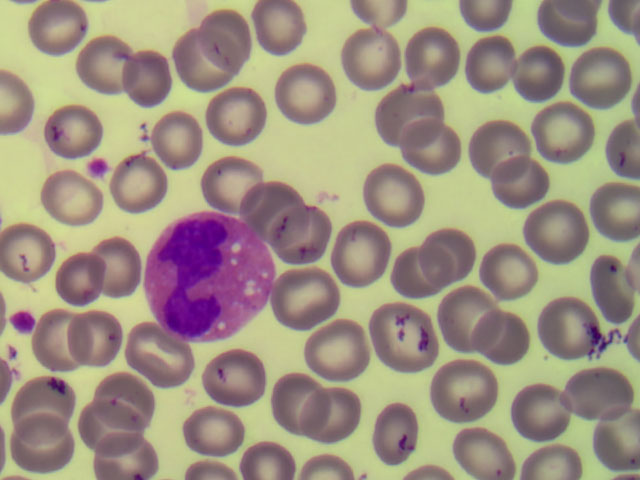Platelets: (4, 309, 36, 332), (88, 156, 110, 179)
RBC: (19, 424, 79, 480), (104, 424, 164, 480), (522, 424, 582, 480), (450, 424, 510, 480), (68, 33, 128, 88), (120, 53, 180, 108), (180, 31, 240, 86), (198, 11, 258, 66), (274, 66, 334, 121), (204, 88, 264, 143), (149, 110, 209, 165), (114, 157, 174, 212), (50, 174, 110, 229), (39, 109, 99, 164), (8, 226, 68, 281), (40, 249, 100, 304), (83, 233, 143, 288), (73, 307, 133, 362), (38, 316, 98, 371), (11, 373, 71, 428), (85, 396, 145, 451), (96, 366, 156, 421), (122, 321, 182, 376), (176, 400, 236, 455), (215, 353, 275, 408), (259, 367, 319, 422), (305, 389, 365, 444), (309, 325, 369, 380), (273, 268, 333, 323), (279, 207, 339, 262), (249, 177, 309, 232), (216, 162, 276, 217), (326, 225, 386, 280), (366, 163, 426, 218), (395, 127, 455, 182), (376, 83, 436, 138), (396, 34, 456, 89), (349, 32, 409, 87), (456, 29, 516, 84), (512, 45, 572, 100), (574, 44, 634, 99), (538, 100, 598, 155), (493, 153, 553, 208), (469, 123, 529, 178), (534, 215, 594, 270), (580, 256, 640, 311), (484, 247, 544, 302), (427, 225, 487, 280), (384, 242, 444, 297), (376, 301, 436, 356), (430, 290, 490, 345), (476, 312, 536, 367), (528, 302, 588, 357), (569, 359, 629, 414), (580, 413, 640, 468), (504, 386, 564, 441), (423, 358, 483, 413), (373, 406, 433, 461), (26, 1, 86, 55), (251, 1, 311, 55)
WBC: (142, 212, 270, 334)
